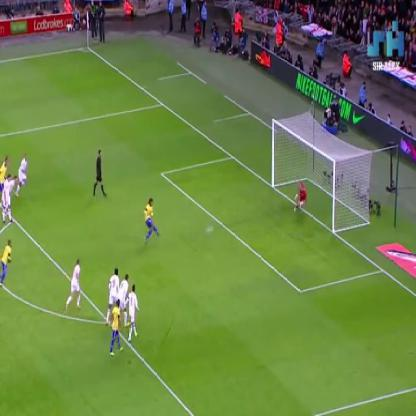penalty kick: (126, 99, 365, 267)
